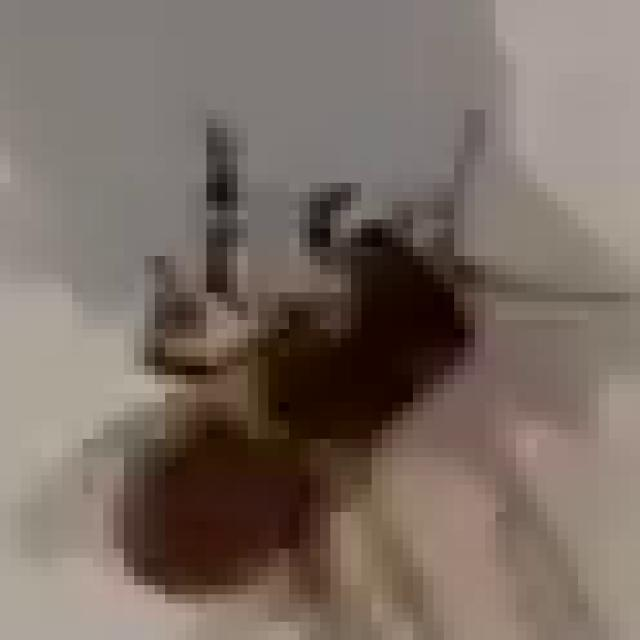honeybee: (124, 116, 475, 582)
